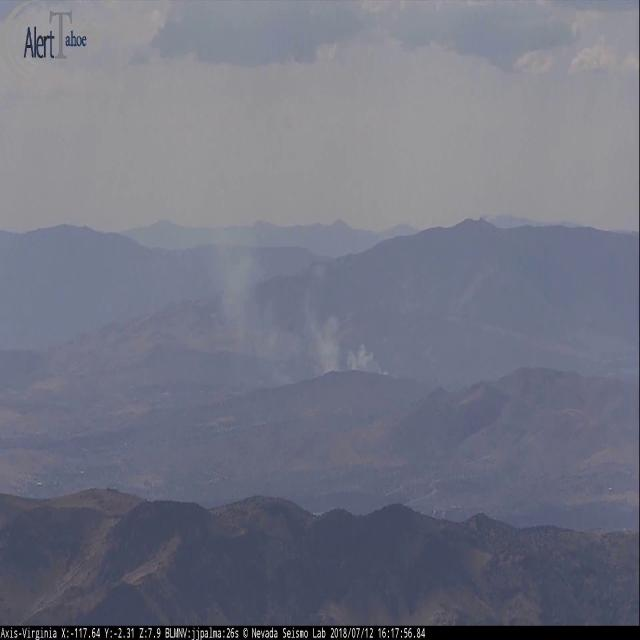smoke: (208, 191, 391, 379)
